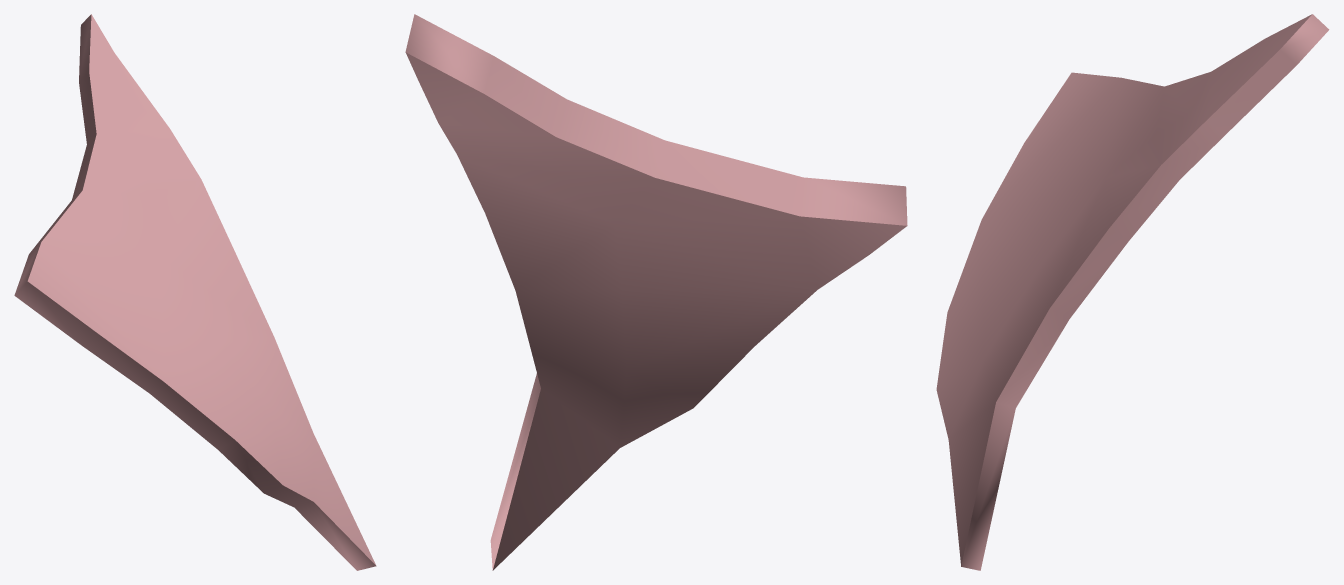
The picture shows the model from 3 angles, left to right: view 1: azimuth 30°, elevation 25°; view 2: azimuth 150°, elevation 25°; view 3: azimuth 270°, elevation 25°; orthographic projection. The views are drawn at different scales.
Visible parts, largest first — view 1: ZA_50c443bf20b51a0c; view 2: ZA_50c443bf20b51a0c; view 3: ZA_50c443bf20b51a0c.
Part boxes in pixels (bbox=[...]): ZA_50c443bf20b51a0c: bbox=[14, 14, 376, 570]; ZA_50c443bf20b51a0c: bbox=[405, 14, 907, 570]; ZA_50c443bf20b51a0c: bbox=[936, 14, 1329, 570].
Size of the model in its own units: 0.0439 by 0.0648 by 0.0462.
